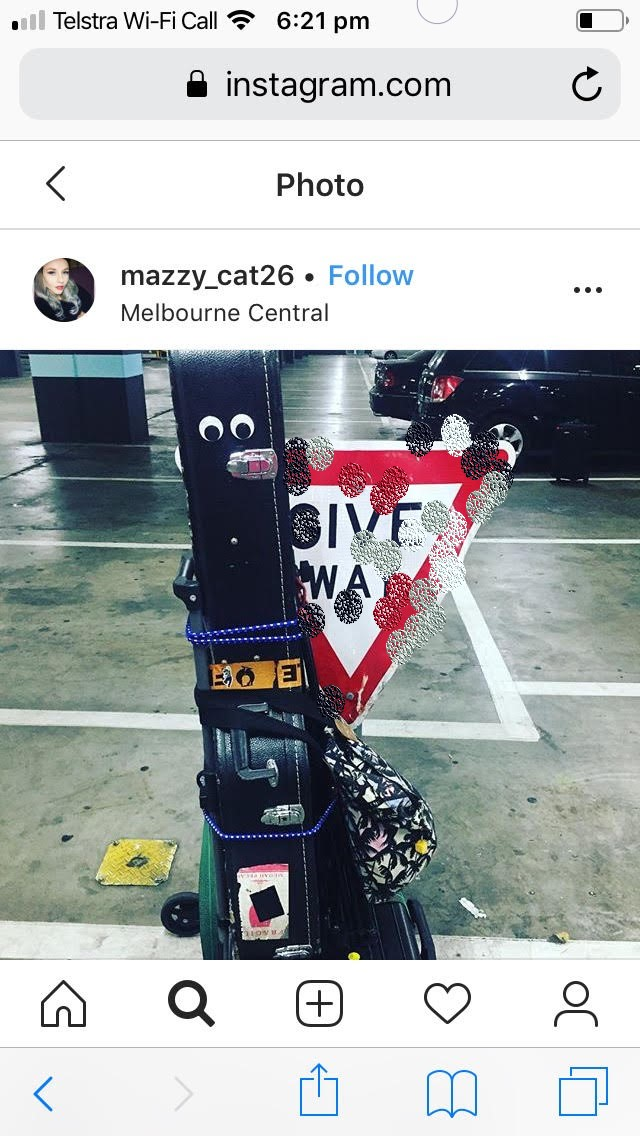giveway: (279, 436, 502, 713), (306, 419, 420, 742)
